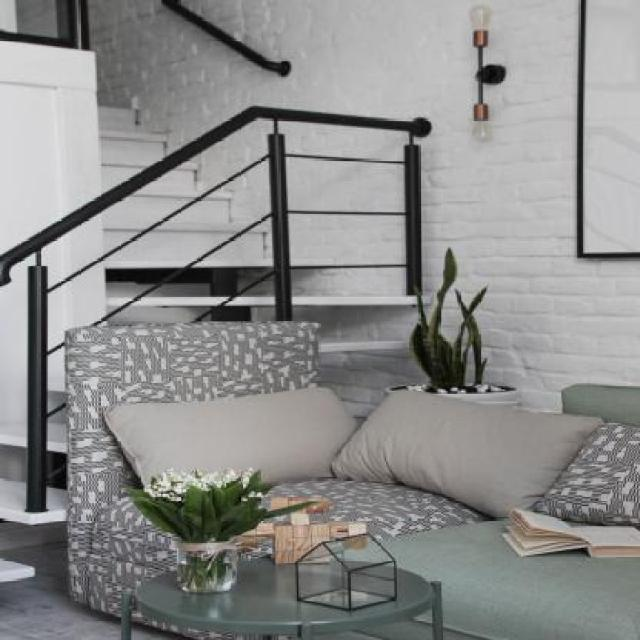stair: (0, 48, 466, 608)
